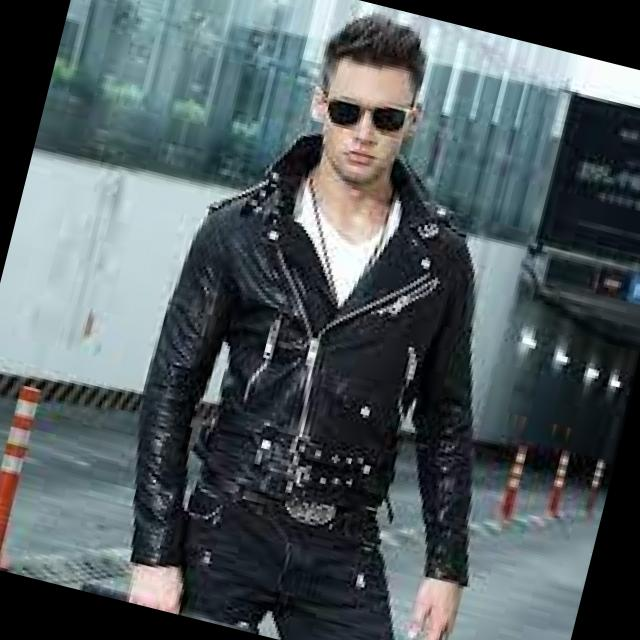Jacket: (72, 116, 596, 640)
